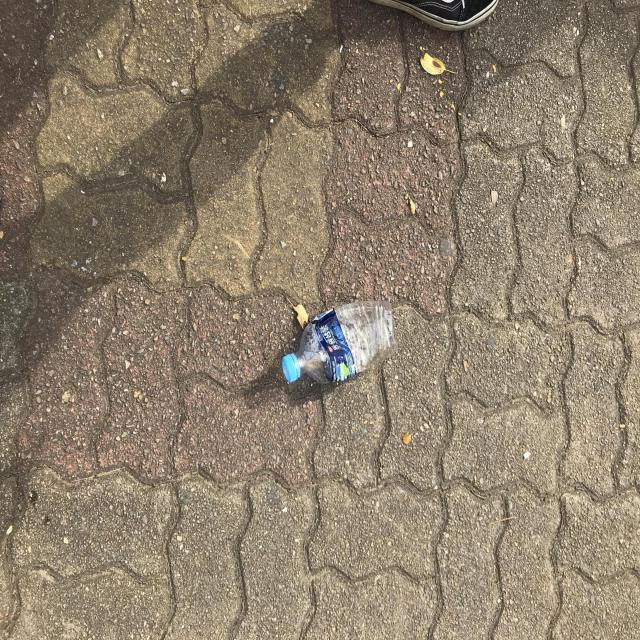plastic: (282, 301, 398, 384)
